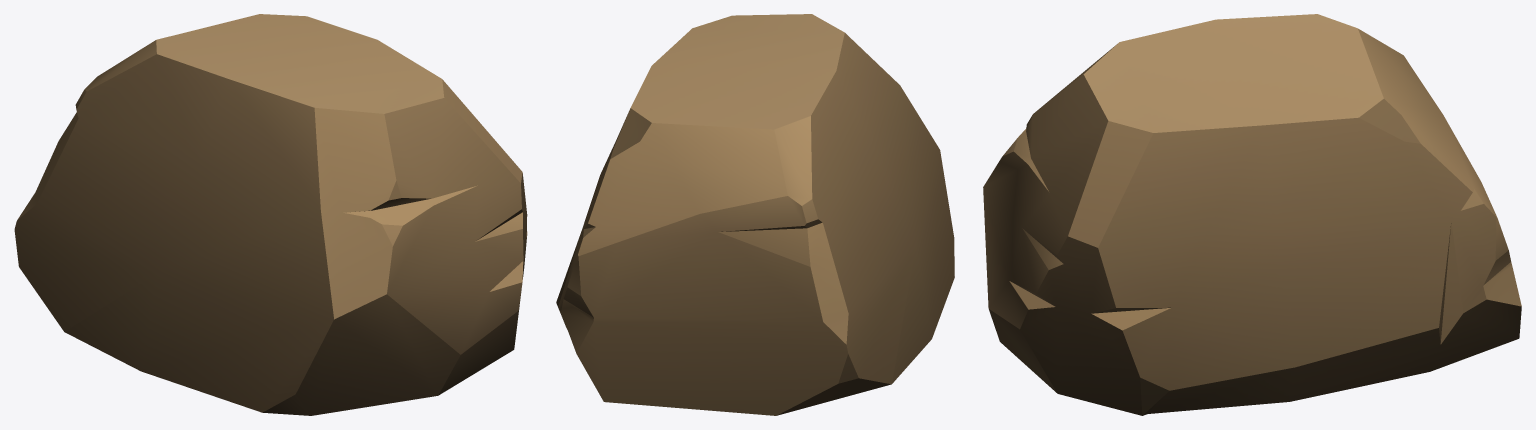
Rendered from Rock_Large_1A.fbx.
3 views of the same model, side by side, from view 1: azimuth 30°, elevation 25°; view 2: azimuth 150°, elevation 25°; view 3: azimuth 270°, elevation 25° (orthographic). The views are drawn at different scales.
Parts seen in each view (by area): view 1: Rock_Large_1A; view 2: Rock_Large_1A; view 3: Rock_Large_1A.
Boxes of the visible parts, box(x1,y1,x2,y2) form: Rock_Large_1A: box(14, 14, 527, 415); Rock_Large_1A: box(556, 14, 954, 415); Rock_Large_1A: box(983, 14, 1521, 415).
Size of the model in its own units: 353 by 238 by 429.
